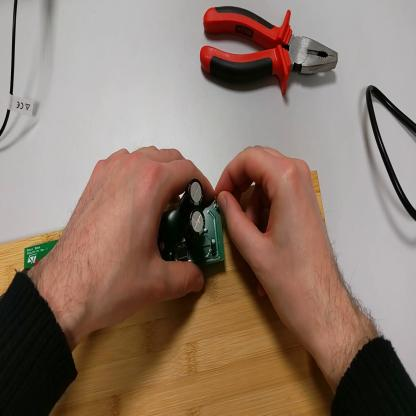hand: (57, 126, 215, 336), (216, 144, 342, 349)
high voltage board: (25, 179, 226, 271)
pliers: (199, 4, 341, 98)
working area: (1, 170, 335, 416)
